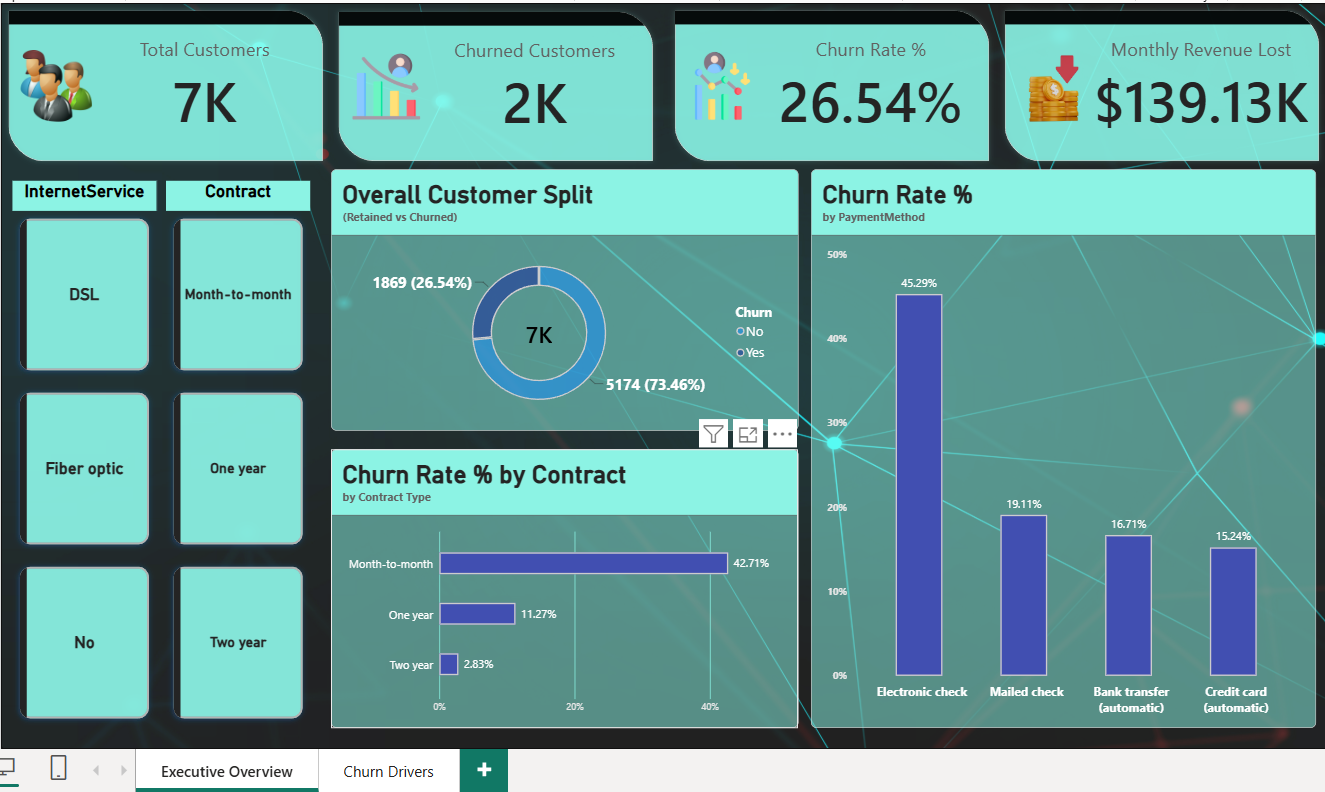

Layout of this report page (visuals, bound fields, positions):
{"tool":"powerbi","page":{"name":"Executive Overview","canvas":[1920,1080],"ordinal":0},"visuals":[{"type":"cardVisual","title":"Total Customers","fields":{"Data":["WA_Fn-UseC_-Telco-Customer-Chur.Total Customers"]},"box":[0,0,477.8,240.7],"z":0},{"type":"cardVisual","fields":{"Data":["WA_Fn-UseC_-Telco-Customer-Chur.Churned Customers"]},"box":[477.8,1.8,477.8,238.9],"z":1000},{"type":"cardVisual","fields":{"Data":["WA_Fn-UseC_-Telco-Customer-Chur.Churn Rate %"]},"box":[964.5,0,477.8,240.7],"z":2000},{"type":"cardVisual","fields":{"Data":["WA_Fn-UseC_-Telco-Customer-Chur.Monthly Revenue Lost"]},"box":[1442.3,0,477.8,240.7],"z":3000},{"type":"advancedSlicerVisual","fields":{"Values":["WA_Fn-UseC_-Telco-Customer-Chur.Contract"]},"box":[238.2,256.4,209.1,792.7],"z":4000},{"type":"advancedSlicerVisual","fields":{"Values":["WA_Fn-UseC_-Telco-Customer-Chur.InternetService"]},"box":[16.4,256.4,209.1,792.7],"z":5000},{"type":"donutChart","title":"Overall Customer Split","fields":{"Category":["WA_Fn-UseC_-Telco-Customer-Chur.Churn"],"Y":["WA_Fn-UseC_-Telco-Customer-Chur.Total Customers"]},"box":[477.8,240.7,676.8,378.2],"z":6000},{"type":"clusteredBarChart","fields":{"Category":["WA_Fn-UseC_-Telco-Customer-Chur.Contract"],"Y":["WA_Fn-UseC_-Telco-Customer-Chur.Churn Rate %"]},"box":[477.8,646,676.8,403.6],"z":7000},{"type":"clusteredColumnChart","fields":{"Category":["WA_Fn-UseC_-Telco-Customer-Chur.PaymentMethod"],"Y":["WA_Fn-UseC_-Telco-Customer-Chur.Churn Rate %"]},"box":[1172.7,240.7,731.1,808.9],"z":8000}]}

Visuals, with their boxes in screenshot pixels (x1, y1, x2, y2):
"Total Customers" cardVisual: rect(17, 0, 342, 164)
cardVisual - WA_Fn-UseC_-Telco-Customer-Chur.Churned Customers: rect(342, 1, 668, 164)
cardVisual - WA_Fn-UseC_-Telco-Customer-Chur.Churn Rate %: rect(674, 0, 999, 164)
cardVisual - WA_Fn-UseC_-Telco-Customer-Chur.Monthly Revenue Lost: rect(999, 0, 1324, 164)
advancedSlicerVisual - WA_Fn-UseC_-Telco-Customer-Chur.Contract: rect(179, 174, 322, 714)
advancedSlicerVisual - WA_Fn-UseC_-Telco-Customer-Chur.InternetService: rect(28, 174, 171, 714)
"Overall Customer Split" donutChart: rect(342, 164, 803, 421)
clusteredBarChart - WA_Fn-UseC_-Telco-Customer-Chur.Contract x WA_Fn-UseC_-Telco-Customer-Chur.Churn Rate %: rect(342, 440, 803, 714)
clusteredColumnChart - WA_Fn-UseC_-Telco-Customer-Chur.PaymentMethod x WA_Fn-UseC_-Telco-Customer-Chur.Churn Rate %: rect(815, 164, 1313, 714)
